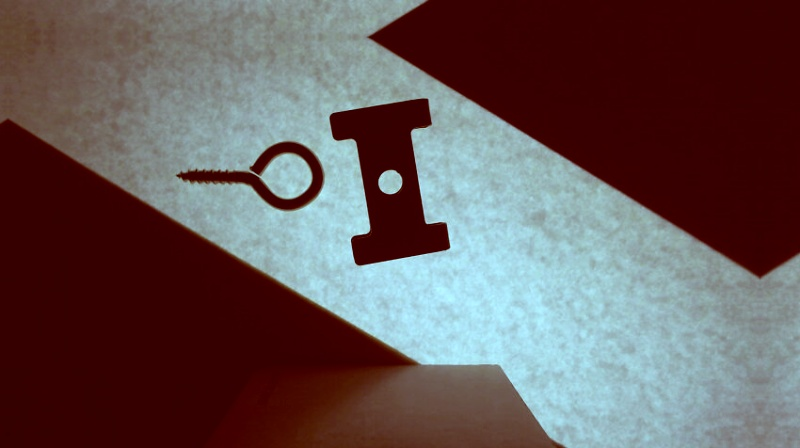O001: (177, 137, 326, 214)
O002: (327, 97, 454, 265)
